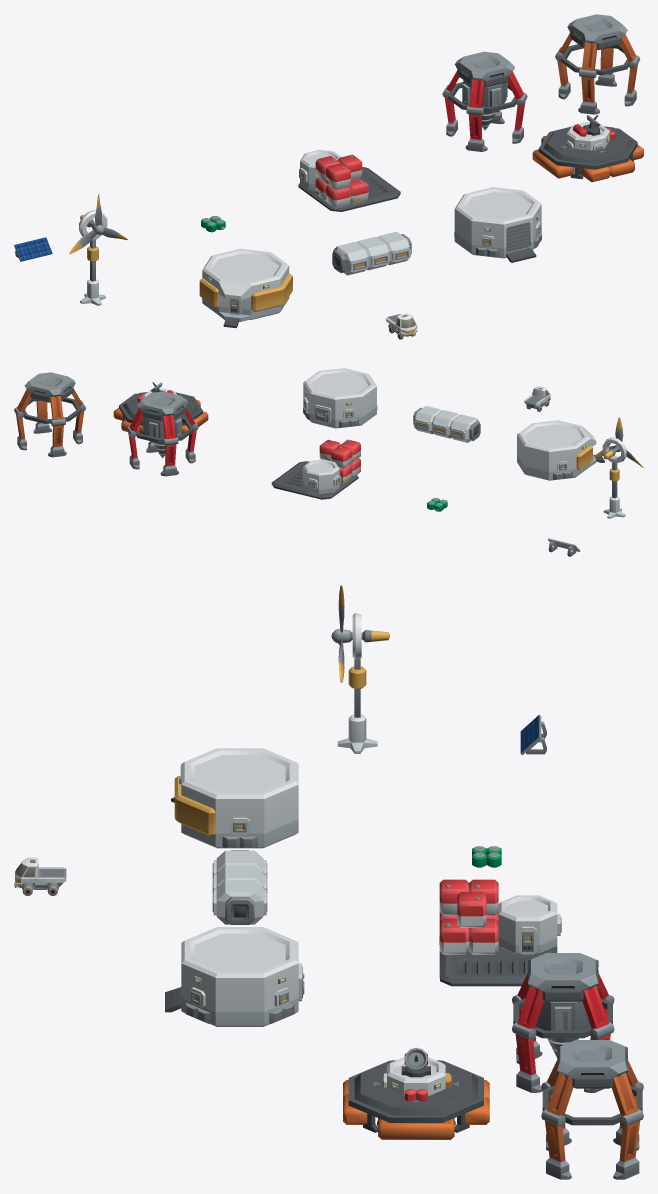
File: base_camp.glb
3 renders of one model, top to bottom at view 1: azimuth 30°, elevation 25°; view 2: azimuth 150°, elevation 25°; view 3: azimuth 270°, elevation 25°, orthographic. The views are drawn at different scales.
Parts seen in each view (by area): view 1: basemodule_A, basemodule_garage, structure_tall, drill_structure, cargodepot_A, landingpad_large, tunnel_straight_A, lander_A, windturbine_tall_fan, drill_module, windturbine_tall, solarpanel (+2 smaller); view 2: basemodule_A, basemodule_garage, structure_tall, cargodepot_A, drill_structure, tunnel_straight_A, landingpad_large, windturbine_tall_fan, drill_module, windturbine_tall, spacetruck, solarpanel; view 3: basemodule_garage, basemodule_A, cargodepot_A, structure_tall, landingpad_large, drill_structure, tunnel_straight_A, lander_A, drill_module, windturbine_tall, windturbine_tall_fan, spacetruck.
Part boxes in pixels (box(x1,y1,x2,y2)): basemodule_A: box(199, 248, 292, 327); basemodule_garage: box(454, 187, 541, 262); structure_tall: box(555, 14, 640, 114); drill_structure: box(442, 51, 527, 151); cargodepot_A: box(298, 149, 400, 211); landingpad_large: box(532, 126, 643, 182); tunnel_straight_A: box(332, 231, 411, 275); lander_A: box(566, 115, 615, 174); windturbine_tall_fan: box(69, 194, 127, 254); drill_module: box(462, 80, 507, 130); windturbine_tall: box(80, 239, 105, 305); solarpanel: box(14, 237, 52, 261); basemodule_A: box(517, 420, 604, 480); basemodule_garage: box(303, 368, 377, 428); structure_tall: box(14, 372, 85, 457); cargodepot_A: box(271, 439, 360, 499); drill_structure: box(126, 391, 198, 476); tunnel_straight_A: box(413, 406, 480, 442); landingpad_large: box(113, 392, 208, 435); windturbine_tall_fan: box(594, 417, 643, 467); drill_module: box(143, 415, 181, 458); windturbine_tall: box(603, 462, 625, 518); spacetruck: box(524, 386, 550, 409); solarpanel: box(547, 538, 580, 556); basemodule_garage: box(165, 927, 304, 1026); basemodule_A: box(171, 748, 298, 848); cargodepot_A: box(439, 879, 561, 986); structure_tall: box(541, 1040, 643, 1179); landingpad_large: box(343, 1060, 489, 1139); drill_structure: box(512, 953, 614, 1092); tunnel_straight_A: box(212, 850, 267, 924); lander_A: box(377, 1047, 455, 1125); drill_module: box(535, 1000, 590, 1057); windturbine_tall: box(337, 658, 377, 753); windturbine_tall_fan: box(331, 585, 389, 682); spacetruck: box(14, 857, 66, 889).
Bounding box in the file's own units: 18.41 × 3.08 × 10.72.
12 materials, 12 textured.
